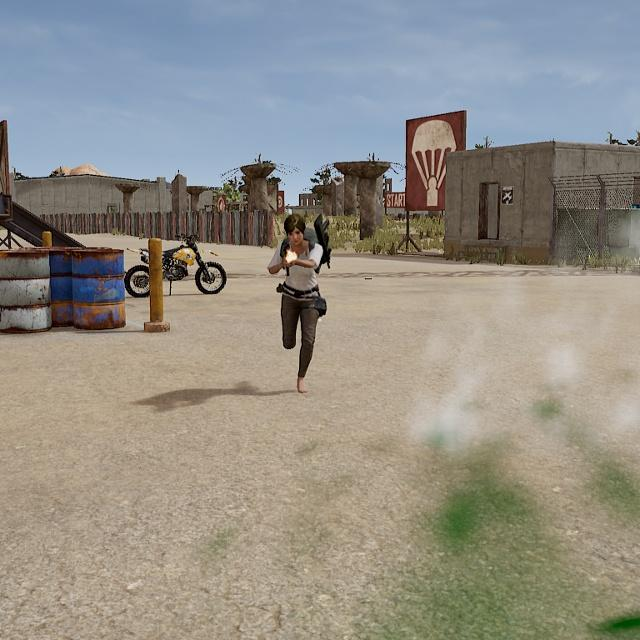head: (284, 212, 306, 247)
people: (266, 212, 326, 393)
